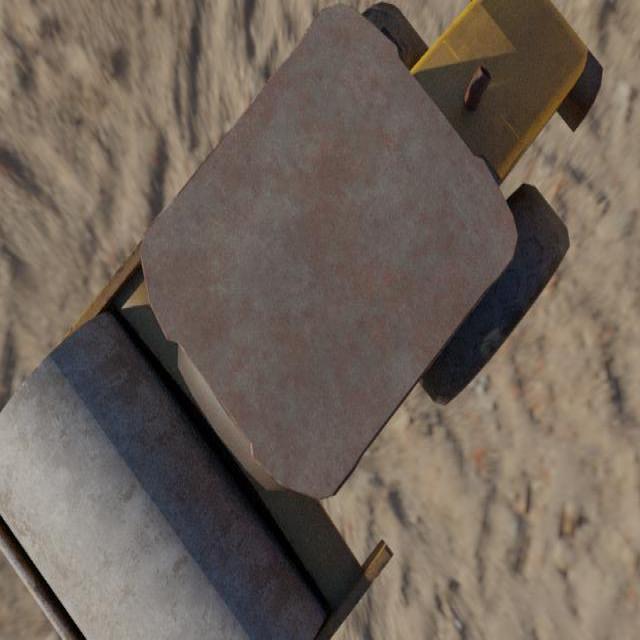Roller: (0, 0, 604, 640)
